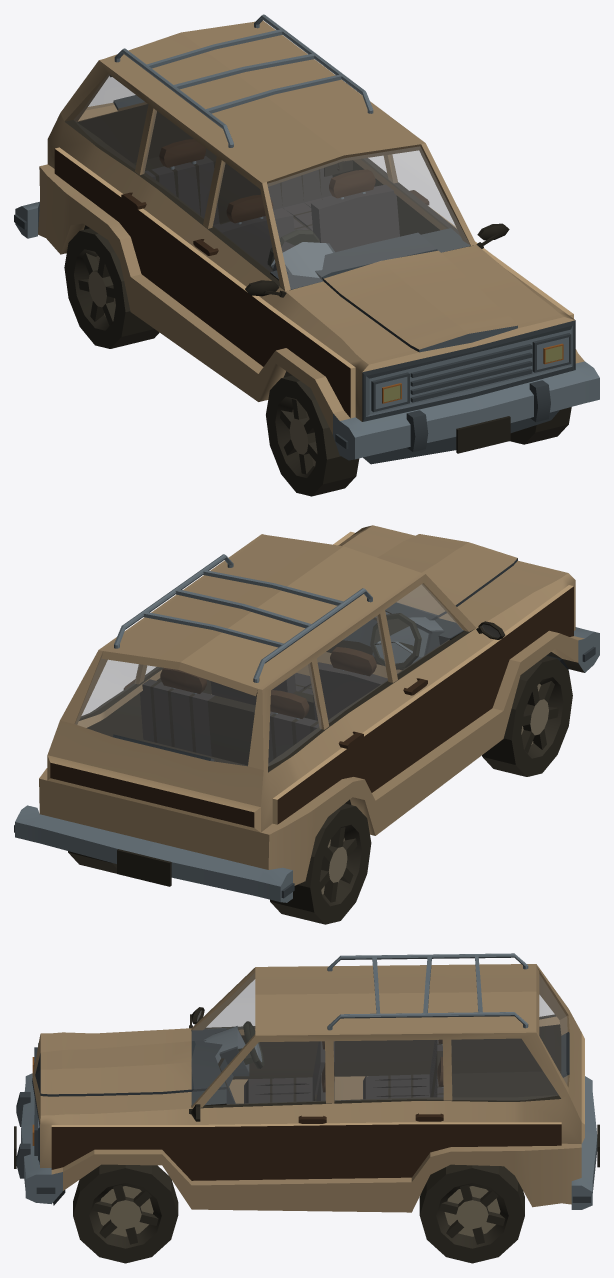
Rendered from SUV_JAPA.fbx.
The picture shows the model from 3 angles, top to bottom: view 1: azimuth 30°, elevation 25°; view 2: azimuth 150°, elevation 25°; view 3: azimuth 270°, elevation 25°; orthographic projection. The views are drawn at different scales.
Parts seen in each view (by area): view 1: polySurface51, polySurface43; view 2: polySurface51, polySurface43; view 3: polySurface51, polySurface43.
Part boxes in pixels (x1,y1,x2,y2): polySurface51: (15,14,599,496); polySurface43: (74,74,469,288); polySurface51: (15,525,599,924); polySurface43: (75,584,462,765); polySurface51: (14,953,599,1263); polySurface43: (191,973,567,1104).
Bounding box in the file's own units: 5.09 × 4.82 × 11.13.
